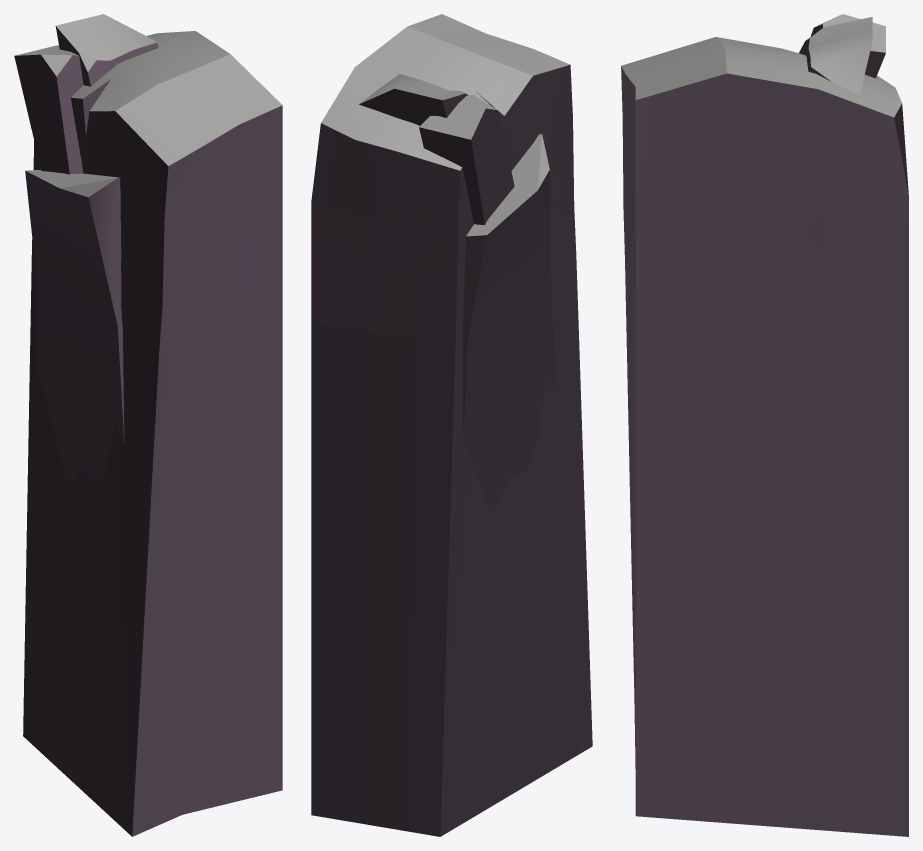
Rendered from env01_cliff_right03.FBX.
3 views of the same model, side by side, from view 1: azimuth 30°, elevation 25°; view 2: azimuth 150°, elevation 25°; view 3: azimuth 270°, elevation 25° (orthographic). The views are drawn at different scales.
Visible parts, largest first — view 1: env01_cliff_right03; view 2: env01_cliff_right03; view 3: env01_cliff_right03.
Boxes of the visible parts, <box> form: env01_cliff_right03: <box>14,14,282,836</box>; env01_cliff_right03: <box>311,14,592,836</box>; env01_cliff_right03: <box>621,14,908,836</box>.
Size of the model in its own units: 248 by 1086 by 372.
